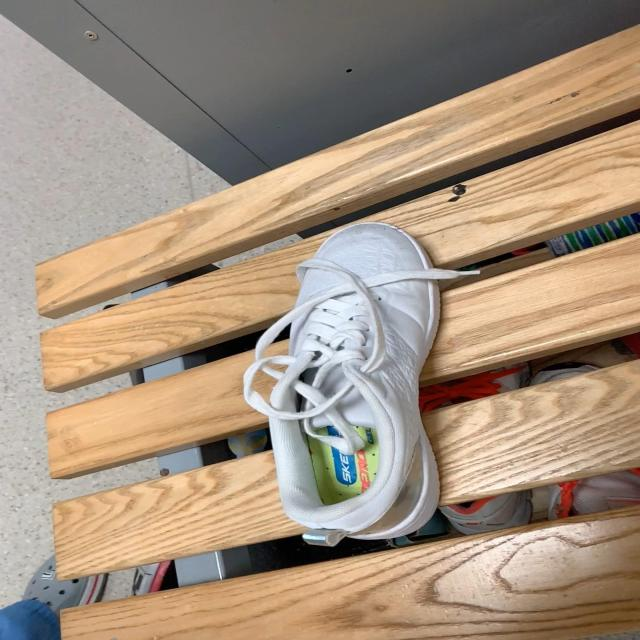shoe: (240, 221, 483, 551)
